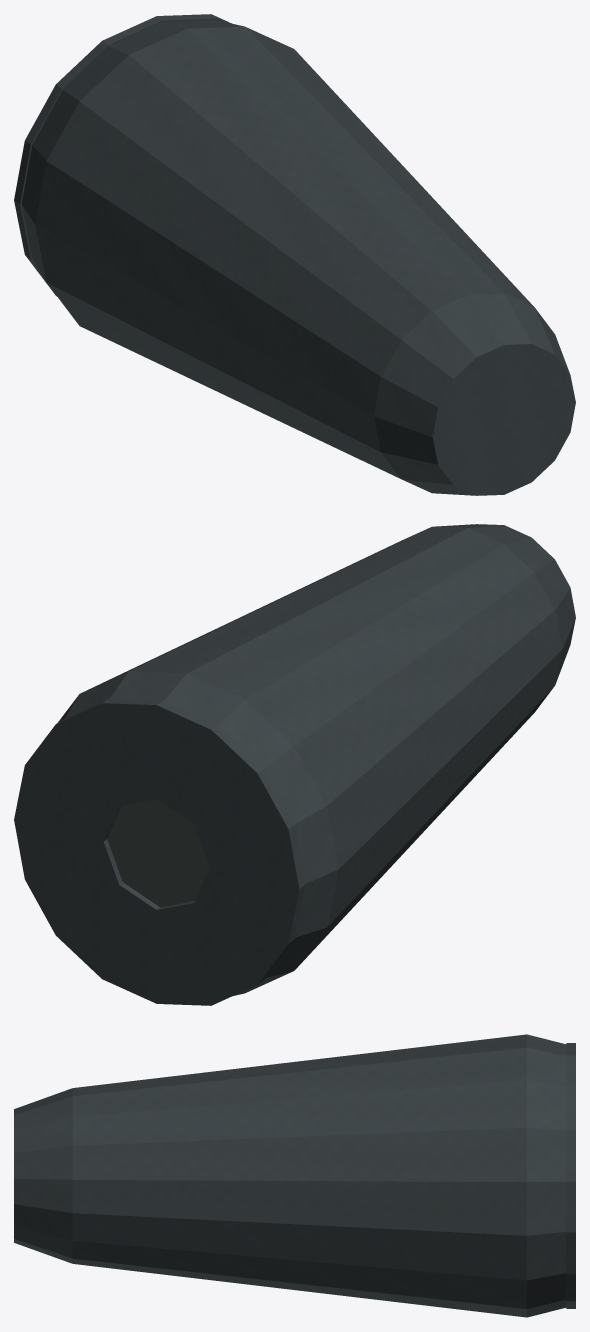
The model's file is aksu_muzzle.glb.
3 renders of one model, top to bottom at view 1: azimuth 30°, elevation 25°; view 2: azimuth 150°, elevation 25°; view 3: azimuth 270°, elevation 25°, orthographic. The views are drawn at different scales.
Visible parts, largest first — view 1: aksu_muzzle_exterior_shell, aksu_muzzle_exterior_shell.001; view 2: aksu_muzzle_exterior_shell, aksu_muzzle_exterior_shell.001, aksu_muzzle_dark_aperture; view 3: aksu_muzzle_exterior_shell.
Part boxes in pixels (x1,y1,x2,y2): aksu_muzzle_exterior_shell: [14, 14, 575, 495]; aksu_muzzle_exterior_shell.001: [20, 21, 575, 493]; aksu_muzzle_exterior_shell: [14, 524, 575, 1005]; aksu_muzzle_exterior_shell.001: [14, 705, 298, 1003]; aksu_muzzle_dark_aperture: [107, 799, 209, 907]; aksu_muzzle_exterior_shell: [14, 1034, 575, 1317].
Size of the model in its own units: 0.058 by 0.058 by 0.115.
2 materials, 1 textured.
